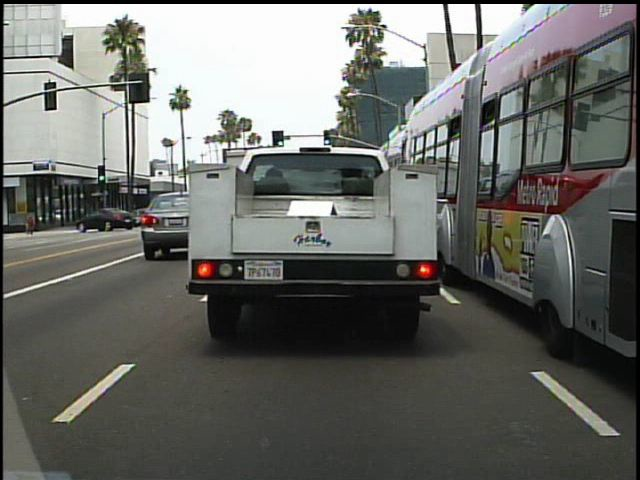person: (24, 208, 37, 236)
